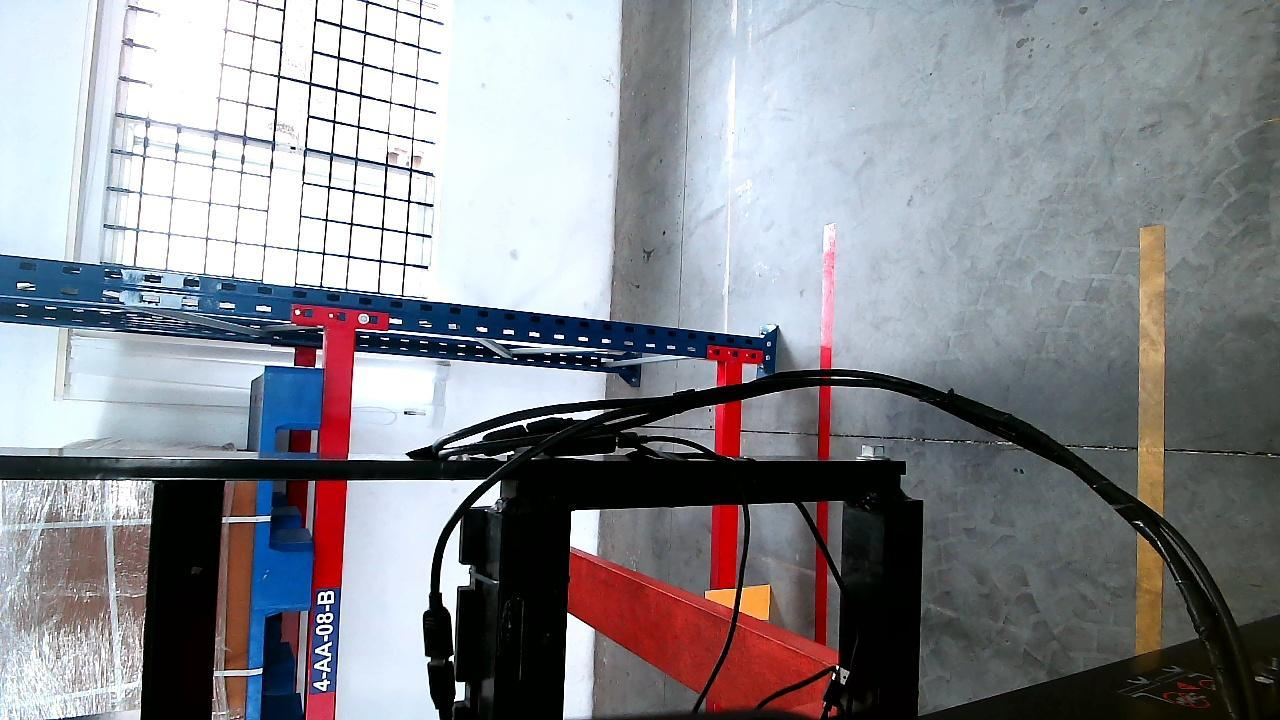red_line: (812, 224, 838, 642)
yellow_line: (1137, 206, 1169, 653)
